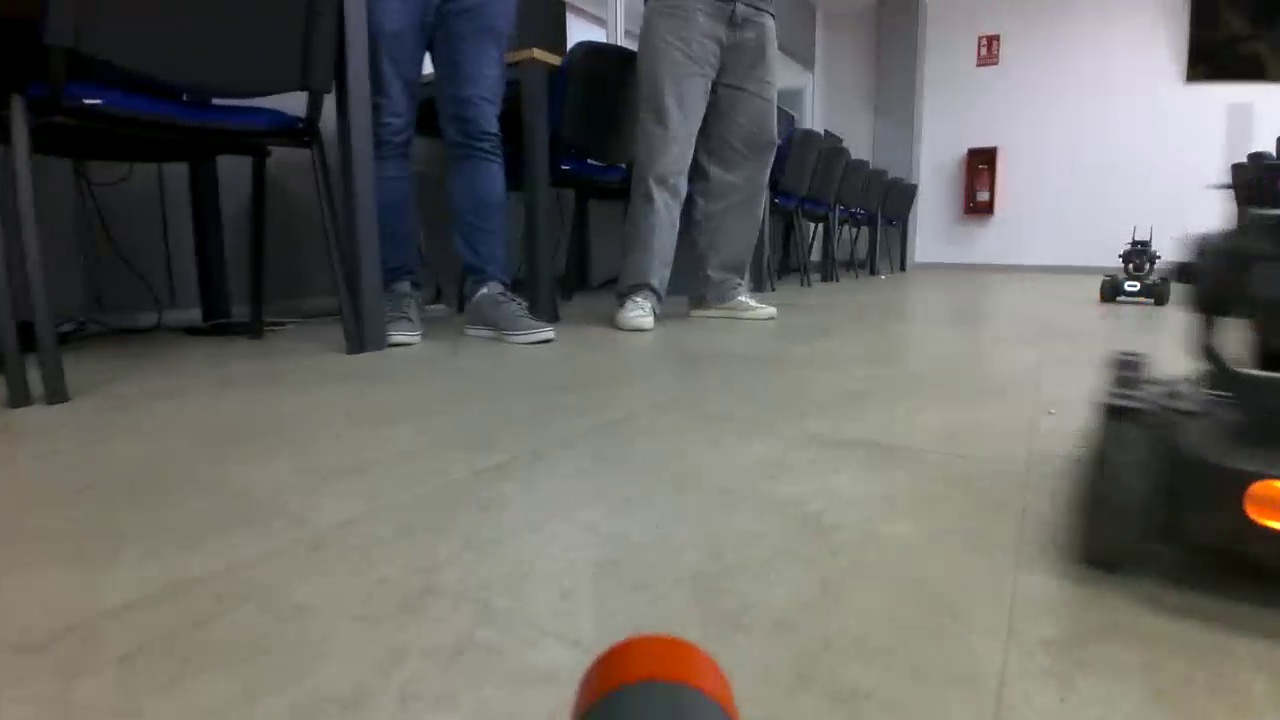robot: (1072, 165, 1280, 600), (1100, 245, 1172, 325)
